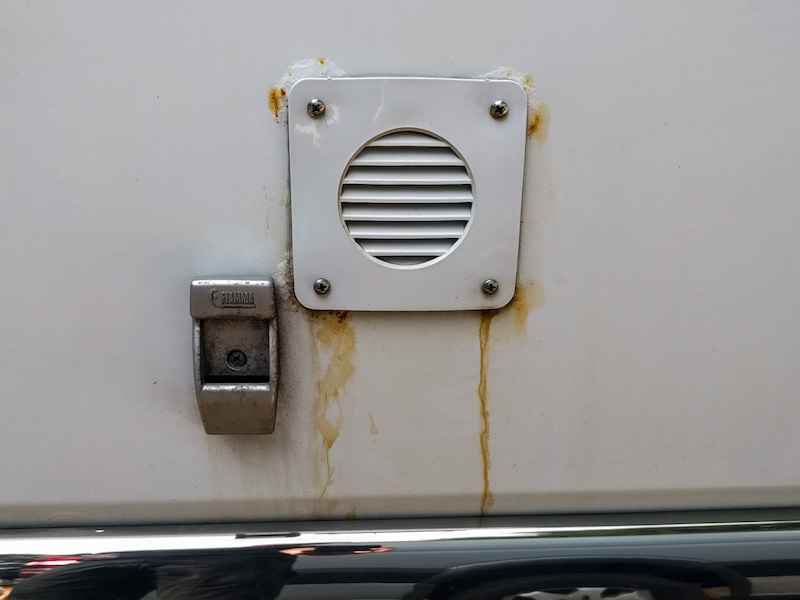screw: (305, 97, 328, 123), (488, 98, 511, 122), (226, 348, 248, 371), (310, 277, 334, 297), (480, 277, 500, 298)
